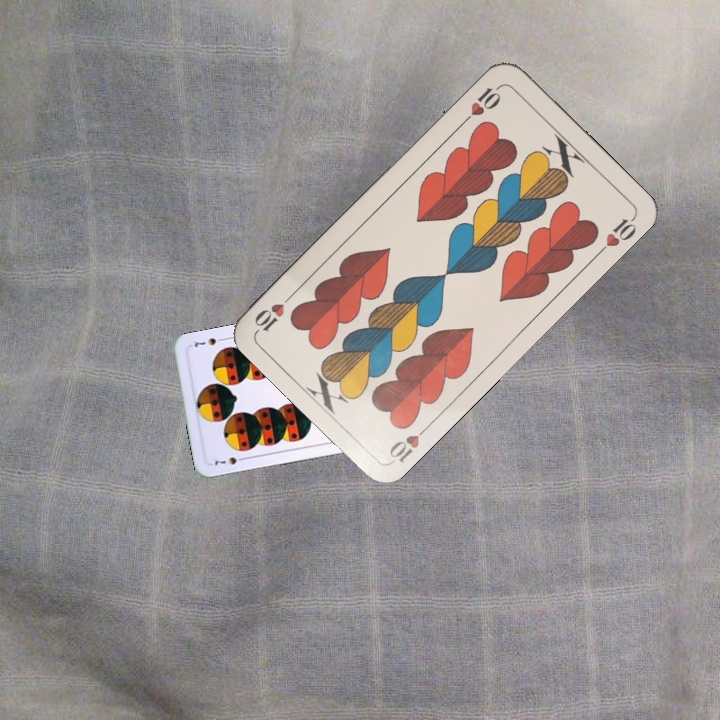H10: (385, 420, 433, 465), (458, 81, 504, 127)
S7: (210, 453, 249, 468)
